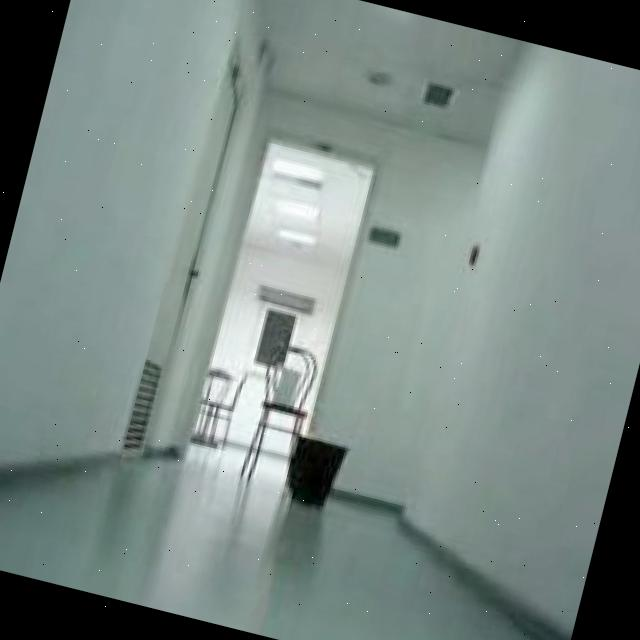fire: (302, 423, 316, 439)
